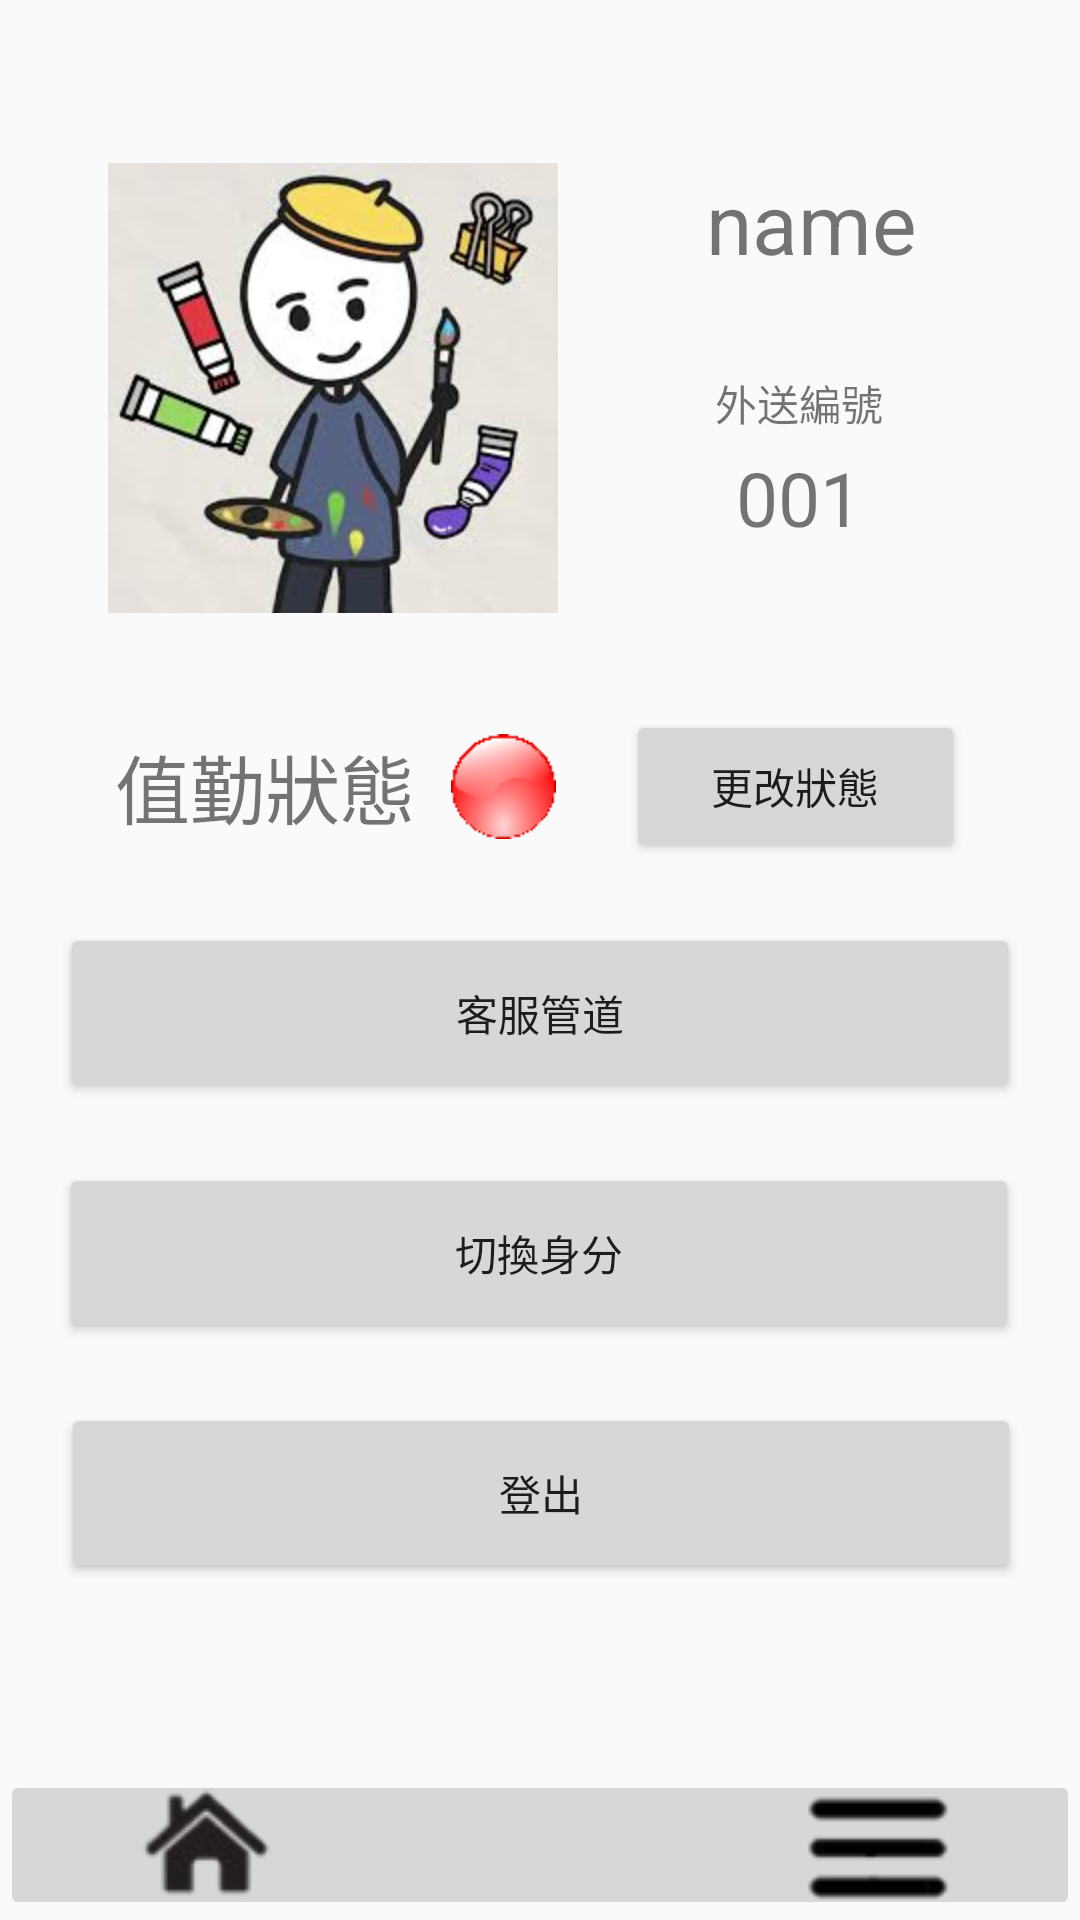

Icons on this 1080*1920 Android screen, each with its box as BBox(x1, y1, x2, y2):
redlight: BBox(451, 734, 556, 839)
